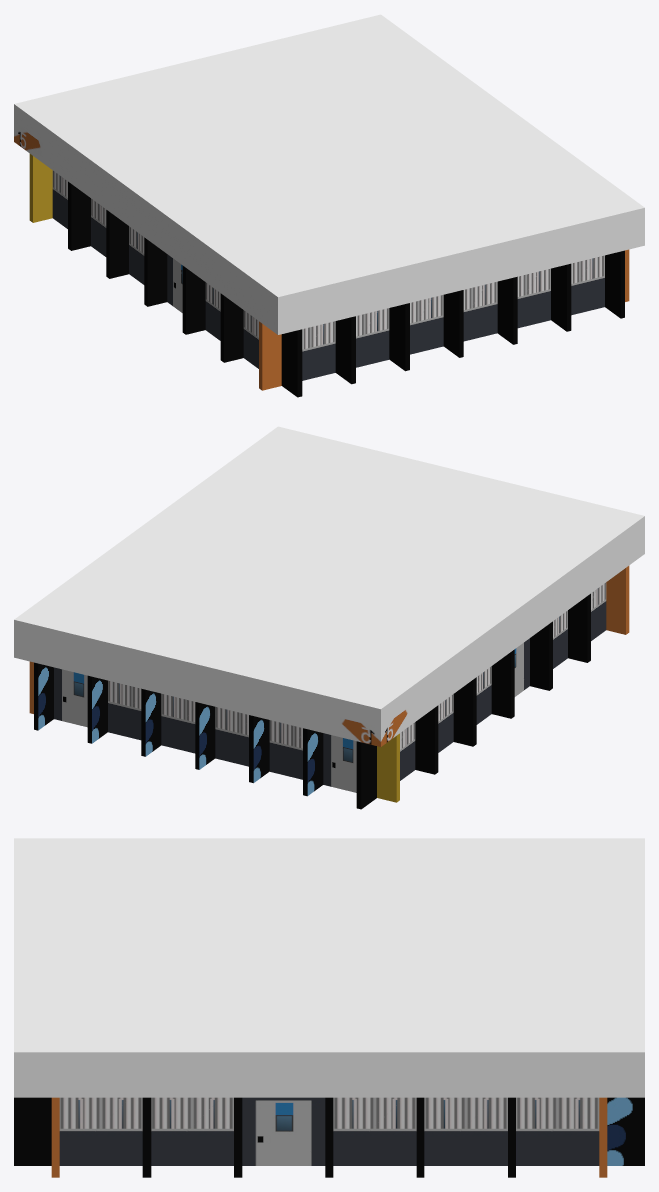
Rendered from EDIF_21.fbx.
3 views of the same model, one above another, from view 1: azimuth 30°, elevation 25°; view 2: azimuth 150°, elevation 25°; view 3: azimuth 270°, elevation 25° (orthographic). The views are drawn at different scales.
Parts seen in each view (by area): view 1: edif_21; view 2: edif_21; view 3: edif_21.
Part boxes in pixels (x1,y1,x2,y2): edif_21: (14,14,644,397); edif_21: (14,426,644,809); edif_21: (14,838,644,1177).
Size of the model in its own units: 2052 by 561 by 2557.
